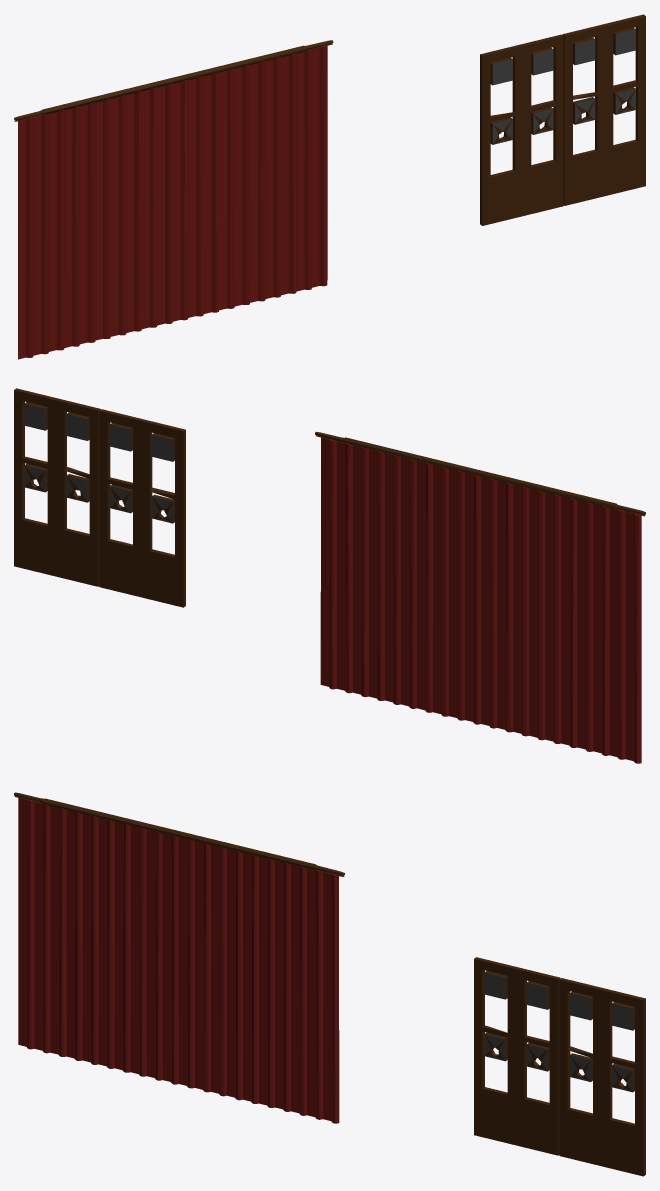
Rendered from door.fbx.
3 renders of one model, top to bottom at view 1: azimuth 30°, elevation 25°; view 2: azimuth 150°, elevation 25°; view 3: azimuth 330°, elevation 25°, orthographic. The views are drawn at different scales.
Parts seen in each view (by area): view 1: perde, door; view 2: perde, door; view 3: perde, door.
Part boxes in pixels (x1,y1,x2,y2): perde: [14, 40, 333, 359]; door: [480, 14, 645, 225]; perde: [315, 431, 645, 763]; door: [14, 388, 185, 607]; perde: [14, 792, 344, 1123]; door: [474, 957, 645, 1176].
Bounding box in the file's own units: 78649 × 29640 × 3125.
